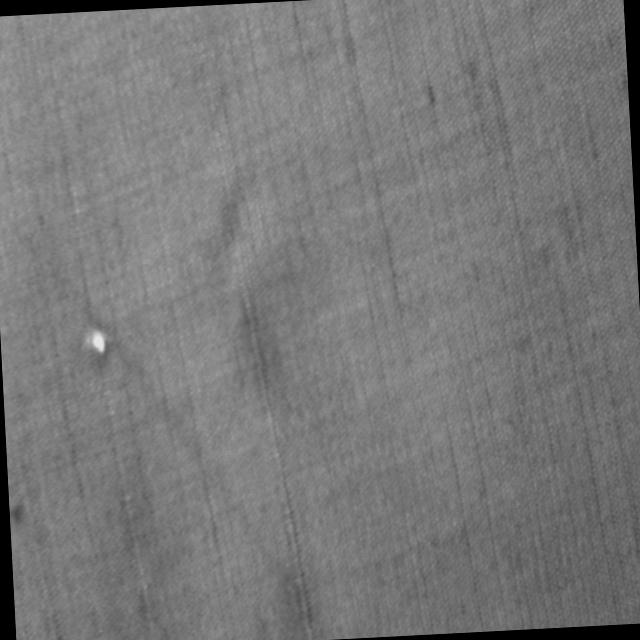hole: (81, 321, 112, 363)
